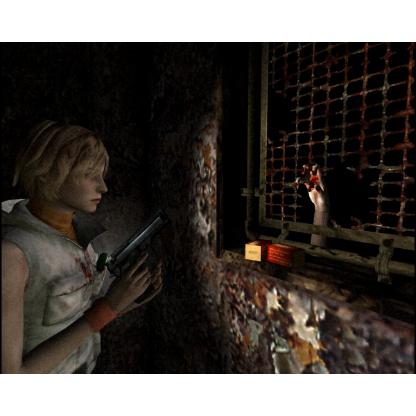gun: (103, 207, 173, 301)
